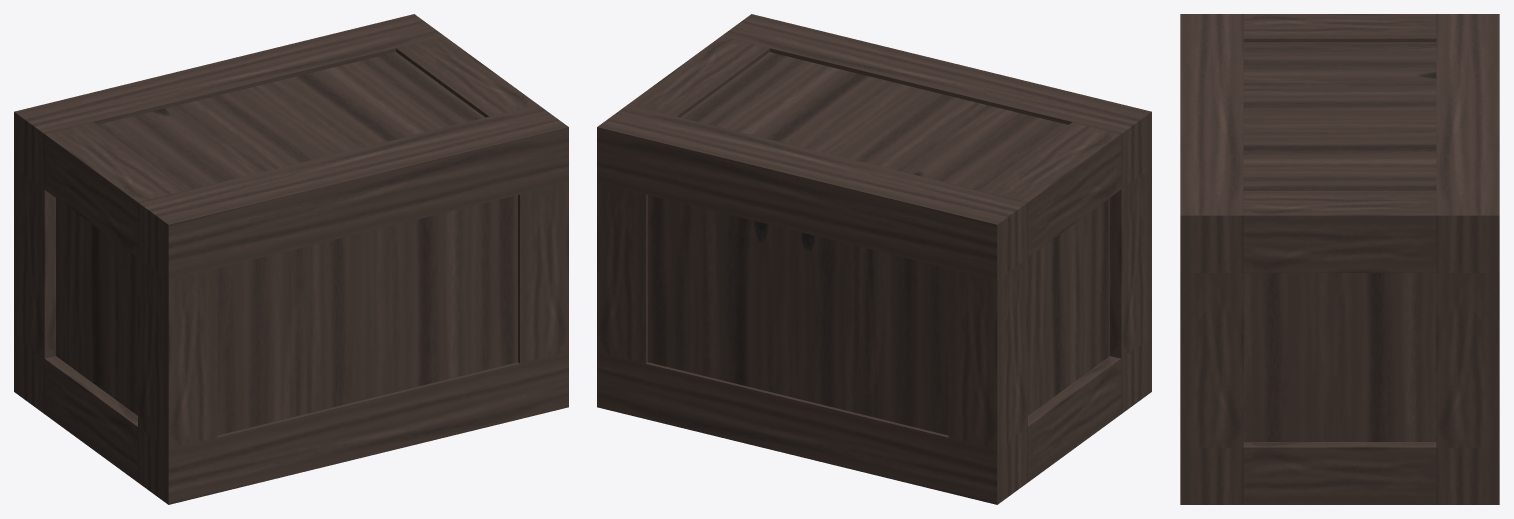
The model's file is ScatterBoxA01.fbx.
3 views of the same model, side by side, from view 1: azimuth 30°, elevation 25°; view 2: azimuth 150°, elevation 25°; view 3: azimuth 270°, elevation 25° (orthographic). The views are drawn at different scales.
Visible parts, largest first — view 1: ScatterBoxA01; view 2: ScatterBoxA01; view 3: ScatterBoxA01.
Part boxes in pixels (x1=…): ScatterBoxA01: x1=14, y1=14, x2=568, y2=504; ScatterBoxA01: x1=597, y1=14, x2=1151, y2=504; ScatterBoxA01: x1=1180, y1=14, x2=1499, y2=504.
Bounding box in the file's own units: 123 × 82.2 × 82.2.
